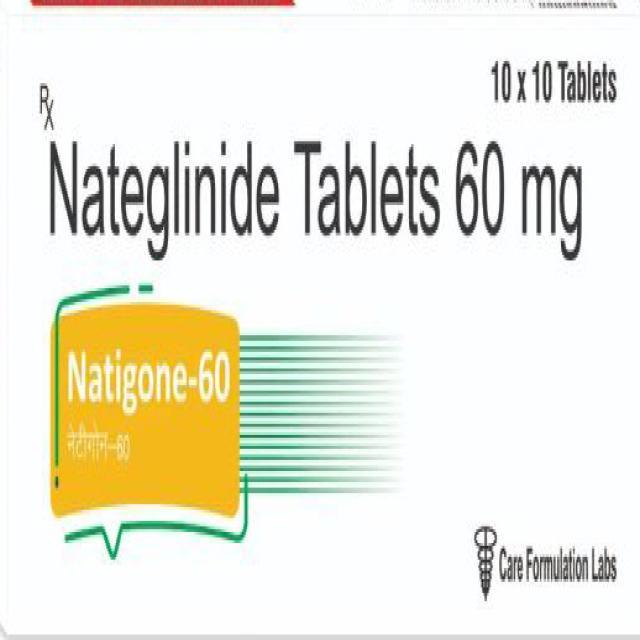drug-name: (63, 338, 238, 416)
